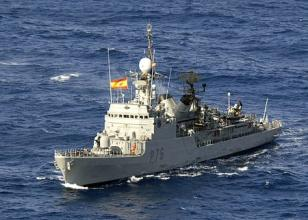warship: (54, 44, 282, 184)
